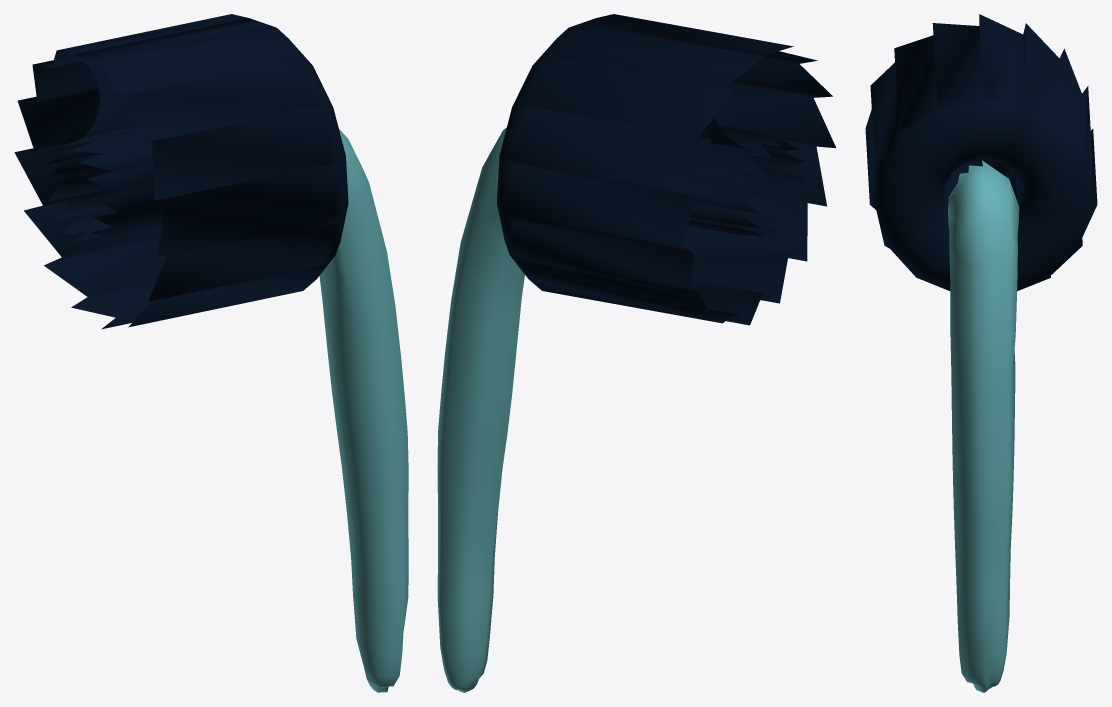
File: bmobrazoder.obj
3 renders of one model, left to right at view 1: azimuth 30°, elevation 25°; view 2: azimuth 150°, elevation 25°; view 3: azimuth 270°, elevation 25°, orthographic. The views are drawn at different scales.
Visible parts, largest first — view 1: BmoBrazoDer; view 2: BmoBrazoDer; view 3: BmoBrazoDer.
Boxes of the visible parts, x1,y1,x2,y2 form: BmoBrazoDer: (14,14,408,692); BmoBrazoDer: (437,14,835,692); BmoBrazoDer: (865,14,1097,692).
Bounding box in the file's own units: 0.4944 × 0.9851 × 0.3688.
